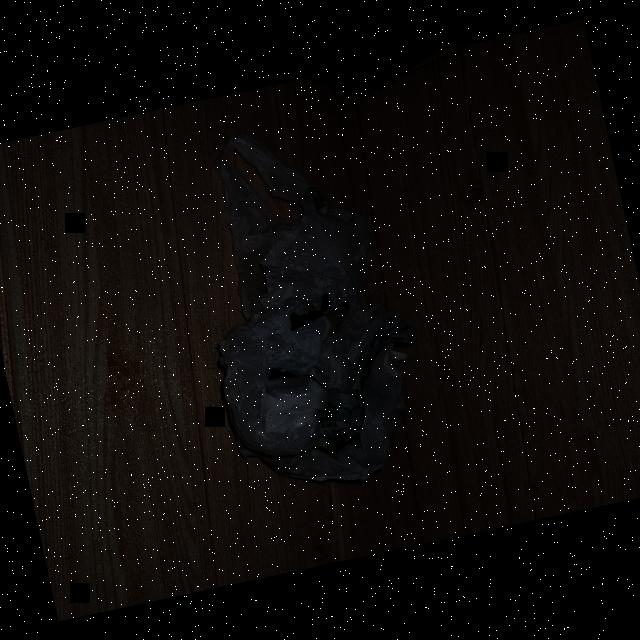plastic_bag: (158, 104, 452, 516)
